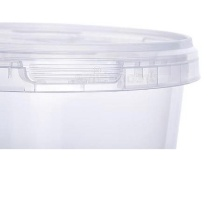plastic_box: (0, 15, 207, 149)
